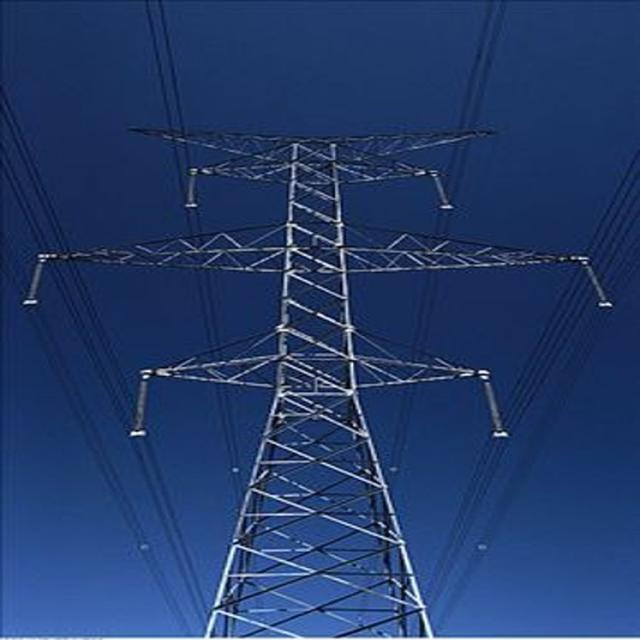non-critical vegetation: (48, 123, 578, 629)
